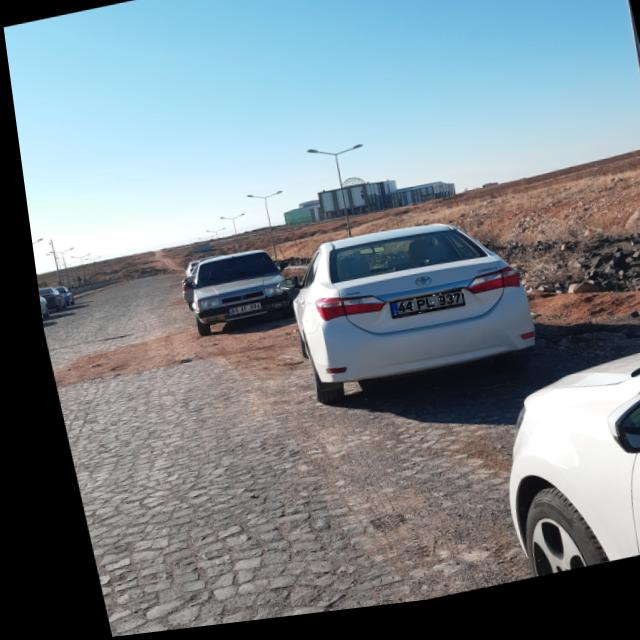license_plate: (378, 298, 456, 328)
